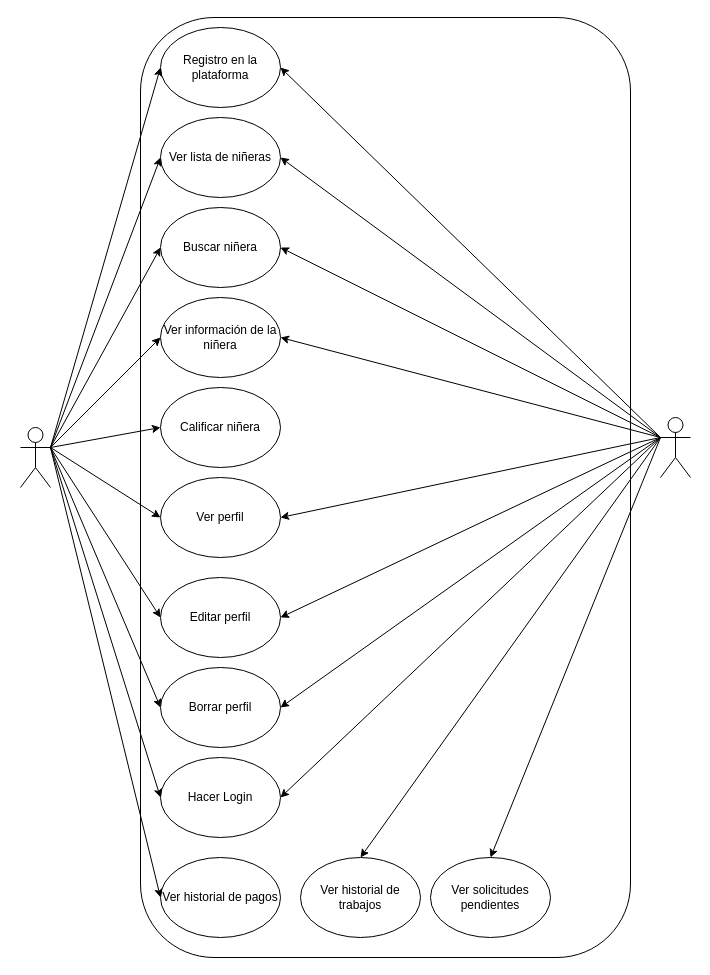
Image size: 710x975. Some labels were removed from this diagram. The centre of each missing label's shape, as x and y in pixels:
"Cliente" goes at (35,457).
"Niñera" goes at (675,447).
